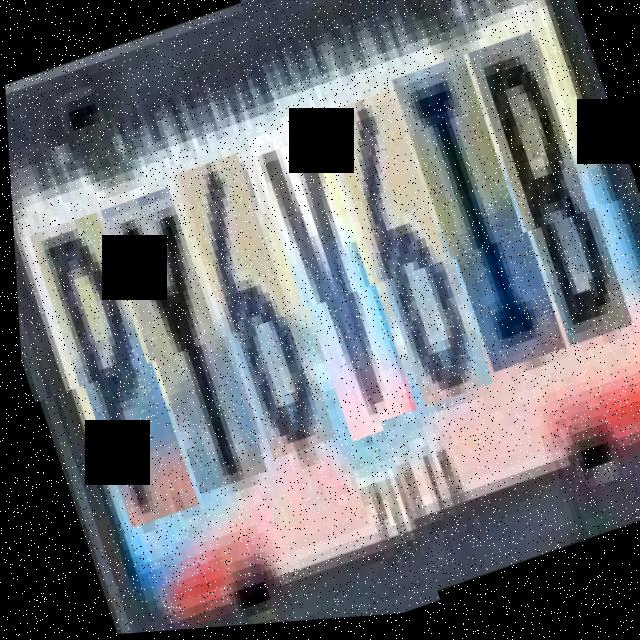6: (327, 98, 491, 426), (175, 150, 331, 467)
B: (473, 42, 632, 368)
I: (396, 64, 565, 393)
P: (30, 207, 193, 534)
V: (248, 115, 415, 450)
Y: (102, 183, 262, 501)
